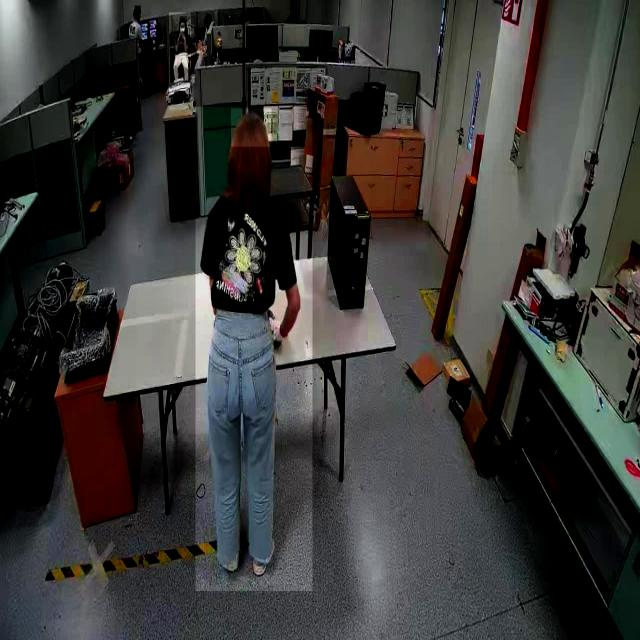head_nohelmet: (230, 109, 272, 148), (134, 5, 141, 14), (179, 16, 187, 23)
person: (195, 107, 313, 592), (169, 13, 191, 95)
shoes: (249, 532, 279, 580)
